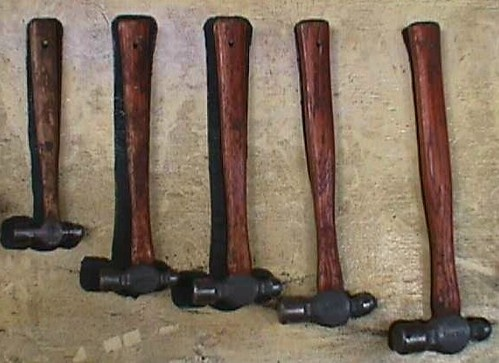hammer: (388, 20, 494, 354), (173, 14, 281, 314), (279, 19, 376, 328), (80, 16, 178, 298), (1, 17, 85, 253)
